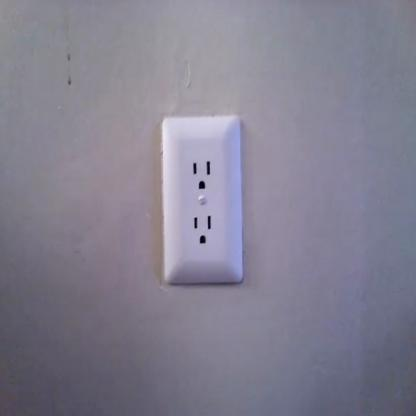OUTLET: (160, 116, 244, 286)
